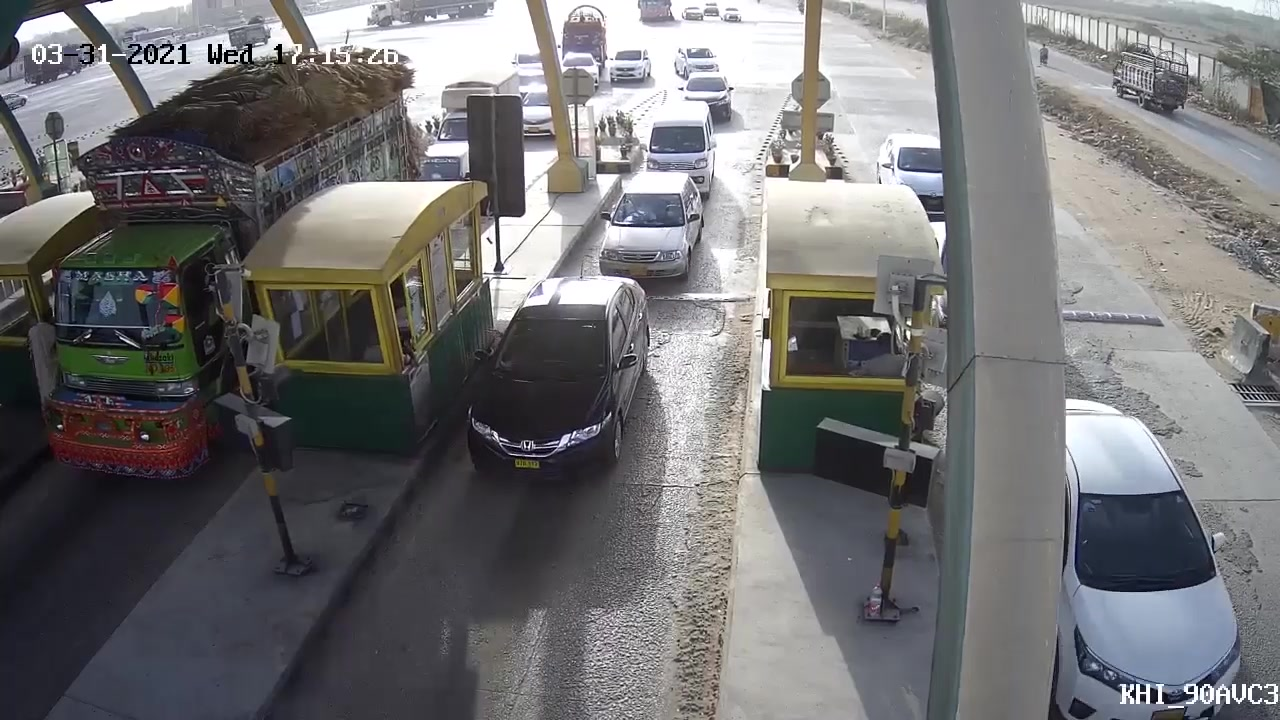F1: (463, 273, 653, 492), (587, 170, 709, 283)
